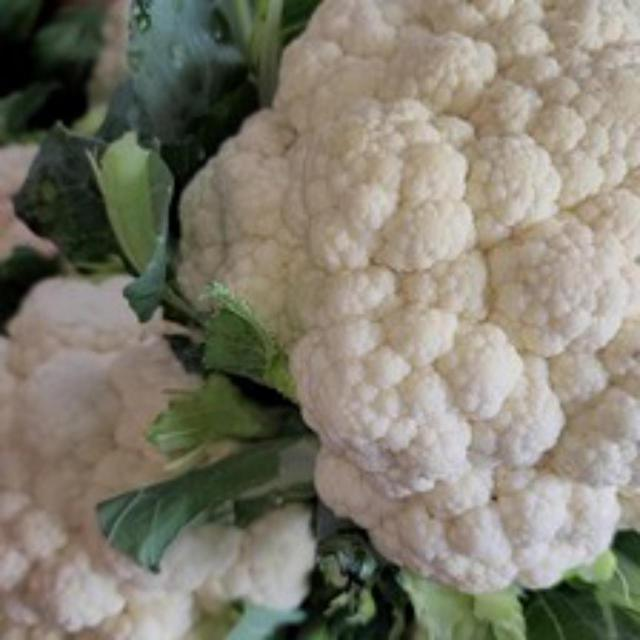cauliflower: (157, 0, 637, 637)
